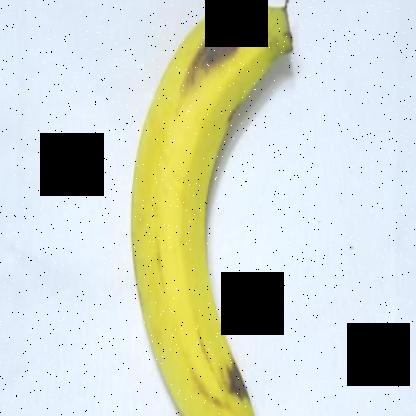freshripe: (121, 0, 298, 415)
